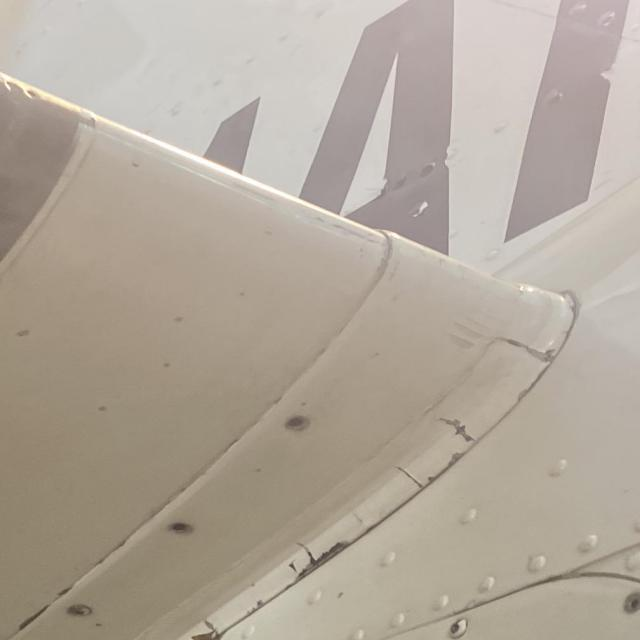Missing-head: (281, 412, 311, 430), (165, 520, 196, 534), (622, 589, 640, 613)
Paint-off: (516, 344, 559, 364)
